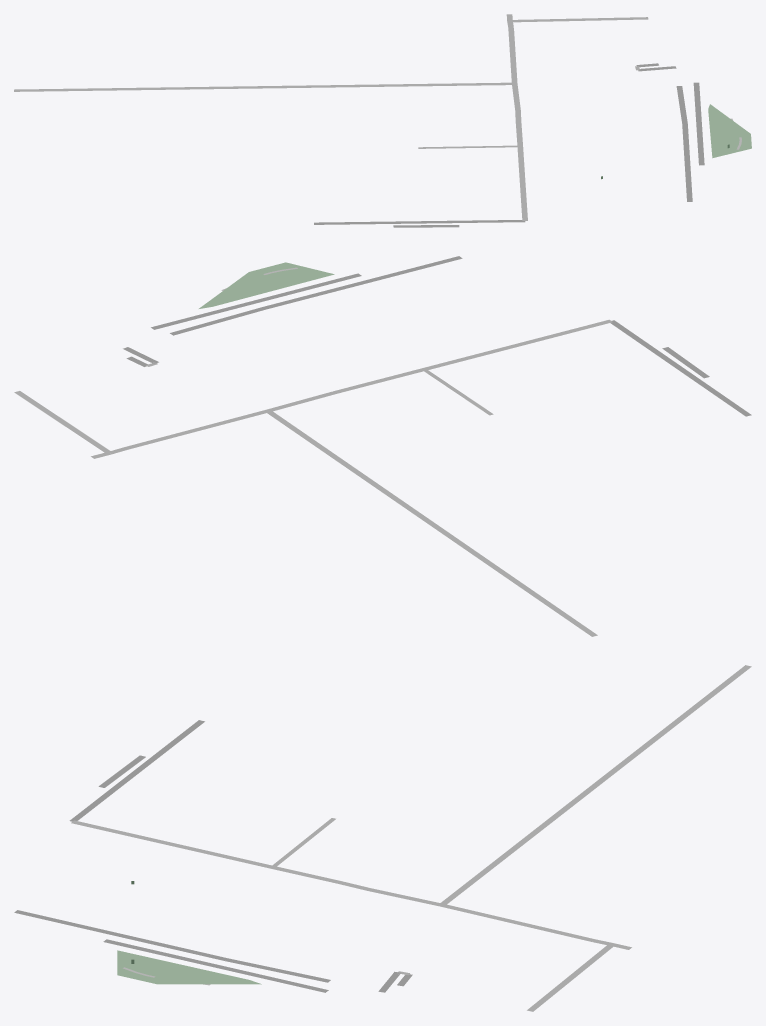
3 views of the same model, one above another, from view 1: azimuth 30°, elevation 25°; view 2: azimuth 150°, elevation 25°; view 3: azimuth 270°, elevation 25° (orthographic). The views are drawn at different scales.
Size of the model in its own units: 785 by 6.19 by 704.
